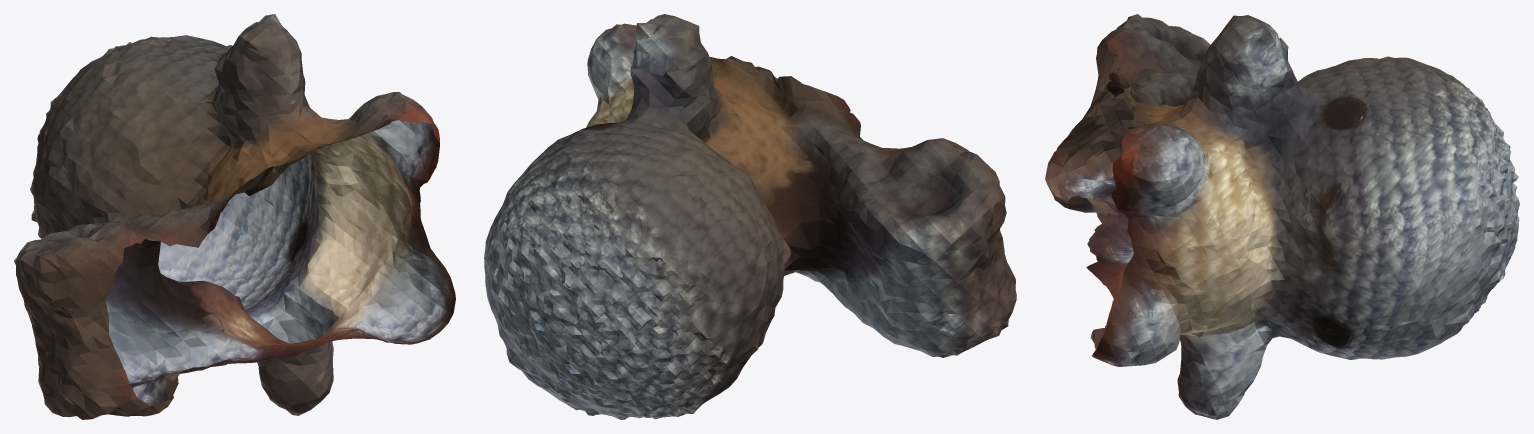
Rendered from Squirtle.fbx.
3 views of the same model, side by side, from view 1: azimuth 30°, elevation 25°; view 2: azimuth 150°, elevation 25°; view 3: azimuth 270°, elevation 25° (orthographic). The views are drawn at different scales.
Parts seen in each view (by area): view 1: Model; view 2: Model; view 3: Model.
Part boxes in pixels (x1,y1,x2,y2): Model: (14, 14, 455, 419); Model: (484, 14, 1016, 419); Model: (1045, 14, 1519, 419).
Size of the model in its own units: 4.98 by 4.48 by 4.93.
